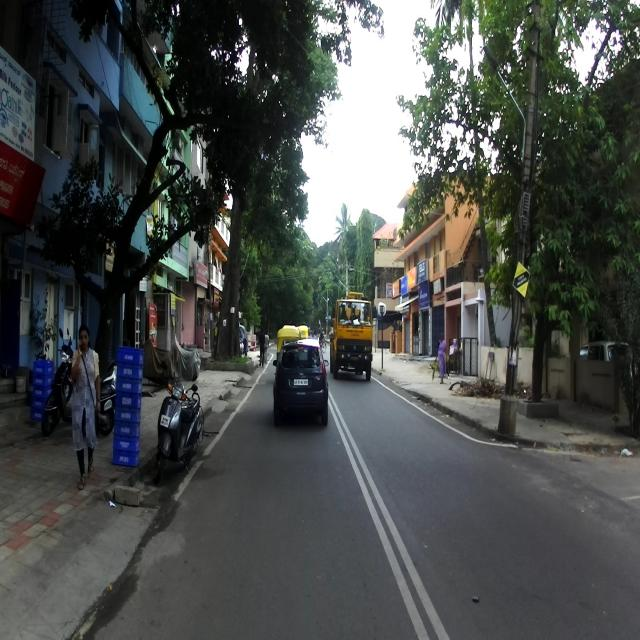car: (273, 332, 329, 428)
scooter: (154, 358, 203, 486)
truck: (329, 289, 372, 378)
